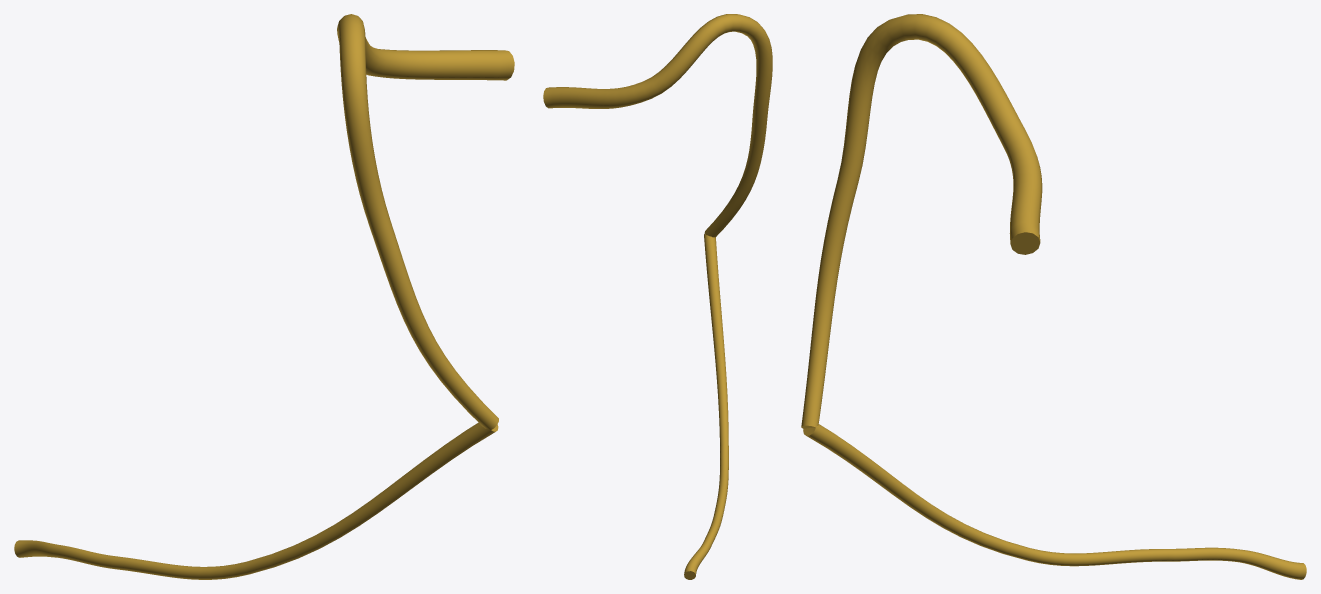
3 views of the same model, side by side, from view 1: azimuth 30°, elevation 25°; view 2: azimuth 150°, elevation 25°; view 3: azimuth 270°, elevation 25° (orthographic). The views are drawn at different scales.
Parts seen in each view (by area): view 1: 右侧三叉神经; view 2: 右侧三叉神经; view 3: 右侧三叉神经.
Part boxes in pixels (box(x1,y1,x2,y2)): 右侧三叉神经: box(14, 14, 514, 579); 右侧三叉神经: box(543, 14, 772, 579); 右侧三叉神经: box(801, 14, 1306, 579).
Size of the model in its own units: 0.0276 by 0.0476 by 0.0346.
